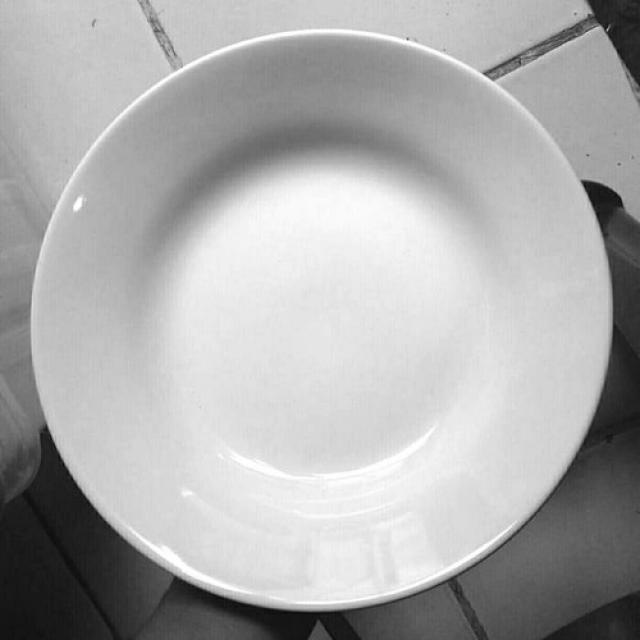dish: (11, 7, 640, 620)
